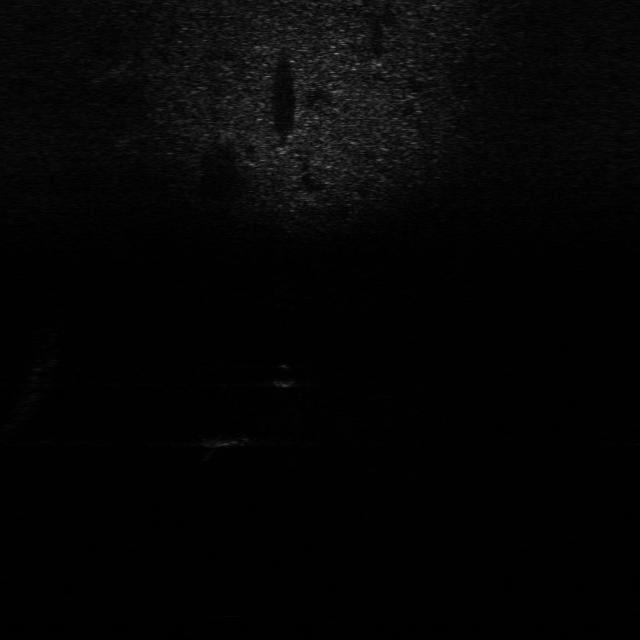ball: (266, 362, 303, 390)
square cage: (200, 428, 264, 458)
